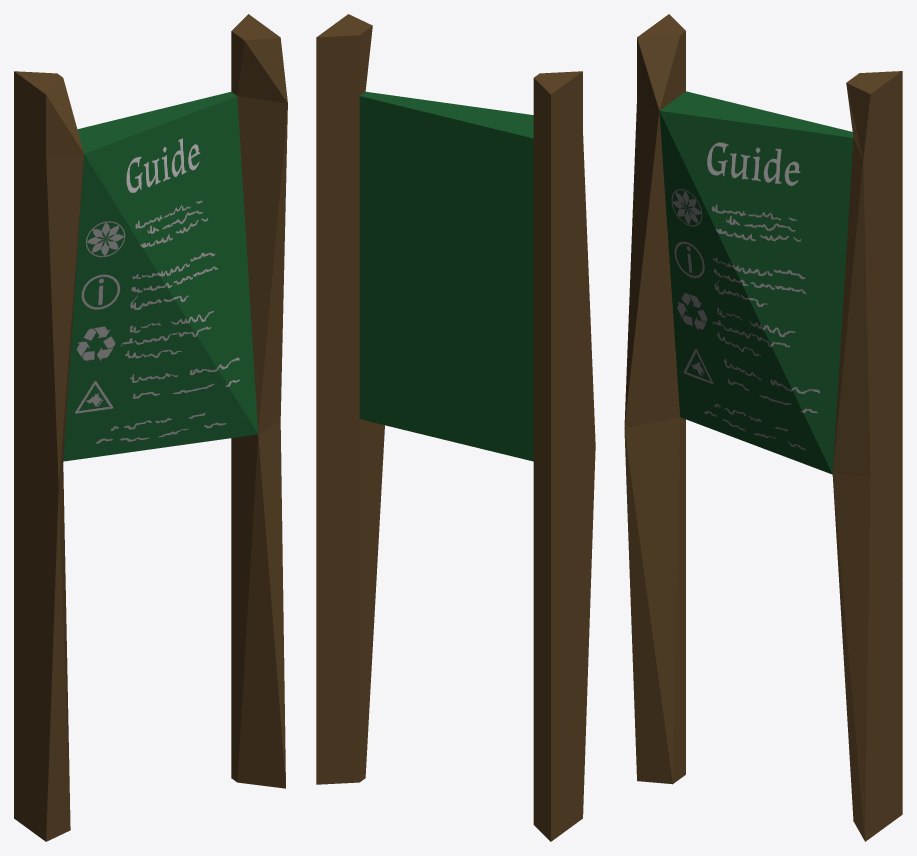
The model's file is SM_parksign_2_AN.fbx.
3 renders of one model, left to right at view 1: azimuth 30°, elevation 25°; view 2: azimuth 150°, elevation 25°; view 3: azimuth 330°, elevation 25°, orthographic.
Visible parts, largest first — view 1: SM_parksign_2_AN; view 2: SM_parksign_2_AN; view 3: SM_parksign_2_AN.
Part boxes in pixels (x1=…): SM_parksign_2_AN: x1=14, y1=14, x2=287, y2=841; SM_parksign_2_AN: x1=316, y1=14, x2=595, y2=841; SM_parksign_2_AN: x1=624, y1=14, x2=902, y2=841.
Size of the model in its own units: 34.53 by 105 by 11.41.
